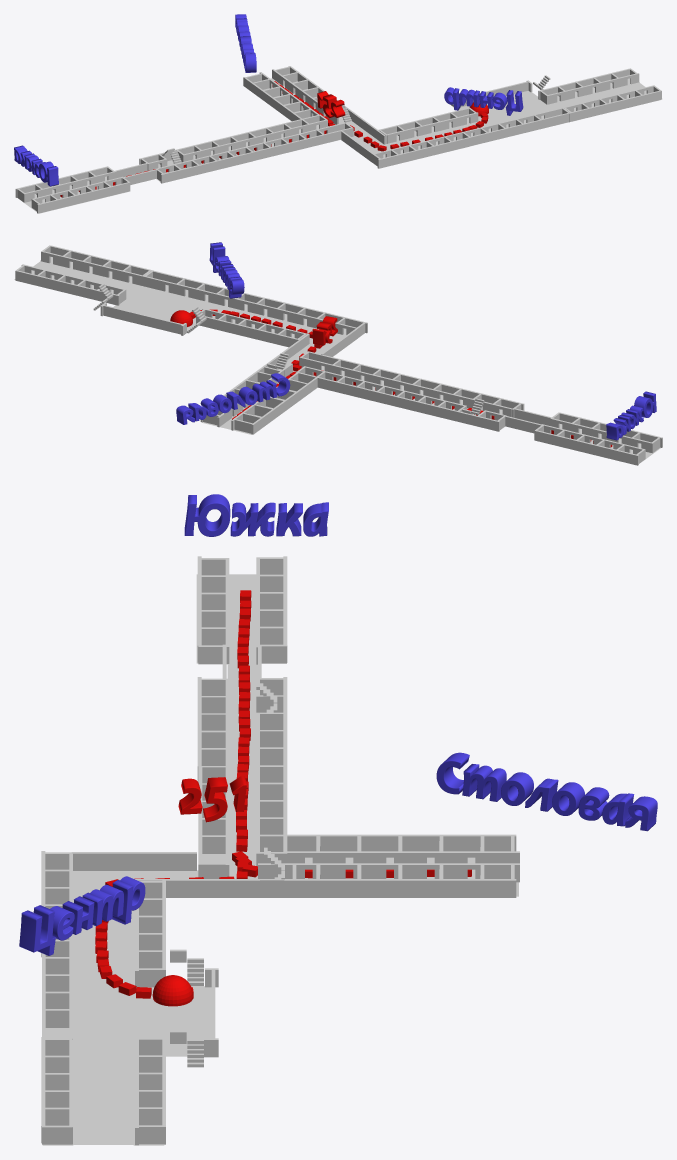
Rendered from 2nmstu.glb.
3 renders of one model, top to bottom at view 1: azimuth 30°, elevation 25°; view 2: azimuth 150°, elevation 25°; view 3: azimuth 270°, elevation 25°, orthographic. The views are drawn at different scales.
Visible parts, largest first — view 1: Plane.002, Cube.004, Text.003, Cube.030, Cube, Cube.016, Cube.037, Cube.024, Cube.043, Text, Cube.045, Cube.039 (+28 smaller); view 2: Plane.002, Text.001, Cube.004, Cube.032, Cube.015, Cube.023, Text, Cube.042, Cube.044, Cube.003, Cube.036, Text.003 (+28 smaller); view 3: Plane.002, Text.001, Cube.004, Text.003, Cube.010, Text, Cube.001, Cube.008, Cube.031, Plane.006, Cube.009, Plane (+14 smaller).
Boxes of the visible parts, left/top/right/bottom form: Plane.002: left=385, top=82, right=646, bottom=153; Cube.004: left=141, top=66, right=326, bottom=170; Text.003: left=444, top=87, right=523, bottom=115; Cube.030: left=469, top=113, right=569, bottom=146; Cube: left=252, top=128, right=353, bottom=160; Cube.016: left=160, top=152, right=252, bottom=183; Cube.037: left=377, top=137, right=469, bottom=168; Cube.024: left=37, top=182, right=129, bottom=213; Cube.043: left=569, top=90, right=660, bottom=122; Text: left=14, top=145, right=58, bottom=186; Cube.045: left=548, top=73, right=639, bottom=104; Cube.039: left=386, top=112, right=478, bottom=143; Plane.002: left=32, top=261, right=318, bottom=343; Text.001: left=176, top=373, right=290, bottom=424; Cube.004: left=203, top=366, right=506, bottom=433; Cube.032: left=143, top=276, right=256, bottom=313; Cube.015: left=396, top=397, right=499, bottom=431; Cube.023: left=535, top=430, right=638, bottom=465; Text: left=606, top=391, right=656, bottom=440; Cube.042: left=16, top=270, right=119, bottom=305; Cube.044: left=41, top=251, right=141, bottom=285; Cube.003: left=295, top=372, right=398, bottom=406; Cube.036: left=197, top=316, right=299, bottom=347; Text.003: left=209, top=242, right=244, bottom=298; Plane.002: left=72, top=895, right=134, bottom=1144; Text.001: left=436, top=752, right=657, bottom=831; Cube.004: left=256, top=678, right=514, bottom=880; Text.003: left=19, top=876, right=145, bottom=955; Cube.010: left=284, top=879, right=516, bottom=897; Text: left=184, top=494, right=328, bottom=536; Cube.001: left=198, top=678, right=229, bottom=878; Cube.008: left=284, top=834, right=516, bottom=851; Cube.031: left=42, top=852, right=72, bottom=1038; Plane.006: left=133, top=910, right=211, bottom=1056; Cube.009: left=286, top=863, right=519, bottom=882; Plane: left=202, top=695, right=256, bottom=870.
Size of the model in its own units: 101 by 8.54 by 47.56.
